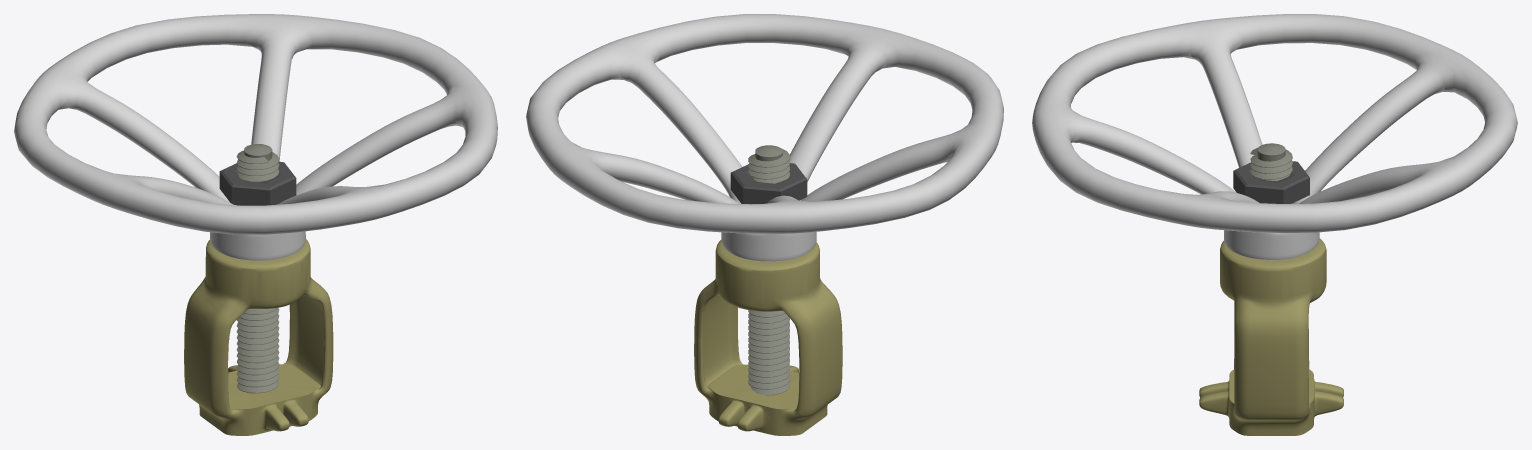
File: Manual.fbx
3 views of the same model, side by side, from view 1: azimuth 30°, elevation 25°; view 2: azimuth 150°, elevation 25°; view 3: azimuth 270°, elevation 25° (orthographic).
Visible parts, largest first — view 1: ActuadorManual; view 2: ActuadorManual; view 3: ActuadorManual.
Boxes of the visible parts, x1=… form: ActuadorManual: x1=14, y1=14, x2=497, y2=435; ActuadorManual: x1=526, y1=14, x2=1003, y2=435; ActuadorManual: x1=1032, y1=14, x2=1517, y2=435.
Bounding box in the file's own units: 0.3684 × 0.2563 × 0.3725.
